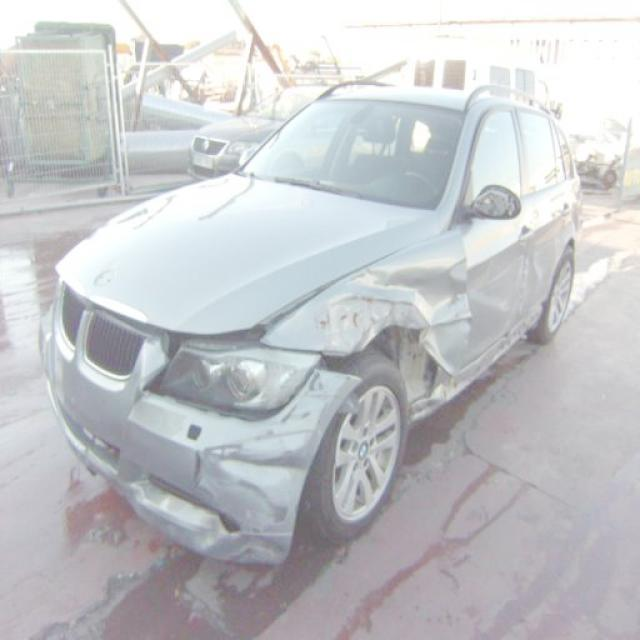car damage: (194, 369, 362, 562), (324, 267, 473, 418), (145, 345, 327, 429), (470, 249, 542, 309), (471, 321, 525, 376), (450, 258, 468, 278)
